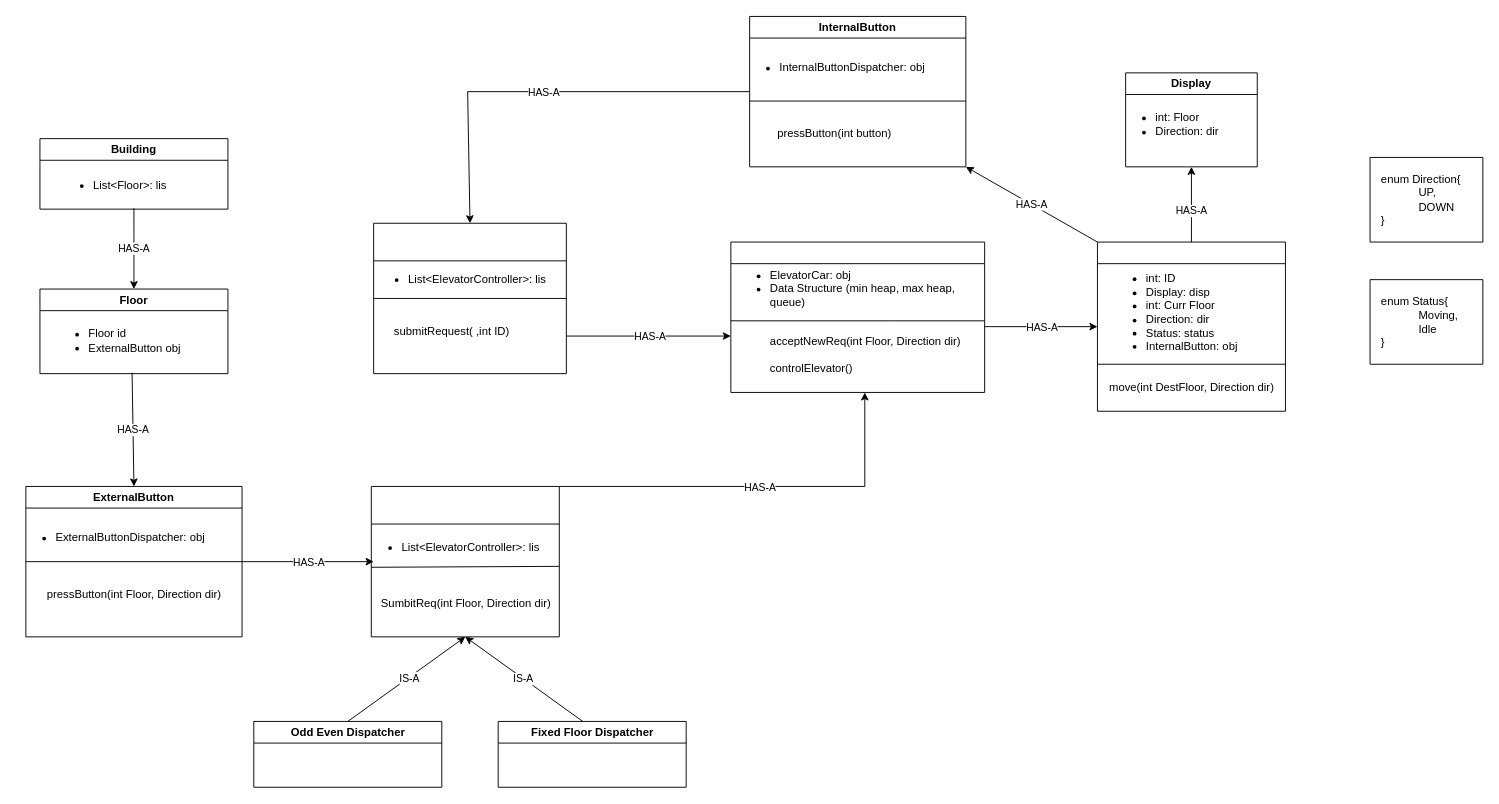
Image size: 1499x804. Some labels were removed from this diagram. The shapes that lost their labels are listed below. From the top down, each one's box as (x1, y1, x2, y2) in pixels, then its label:
(373, 222, 566, 374): Internal Button Dispatcher
(730, 241, 985, 392): ElevatorController
(1097, 241, 1285, 411): Elevator Car
(370, 486, 559, 637): External Button Dispatcher
